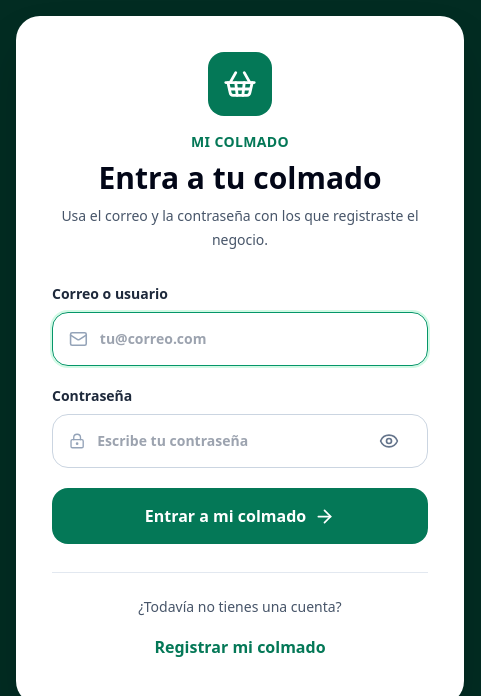
Scenario: ColmadoLoginPage › prevents repeated clicks while login is pending
The width and height of the screenshot is (481, 696).
Type "dueno@example.com" into the field labelled "Correo o usuario". click: point(249, 339)
box: 88,313 -> 411,365
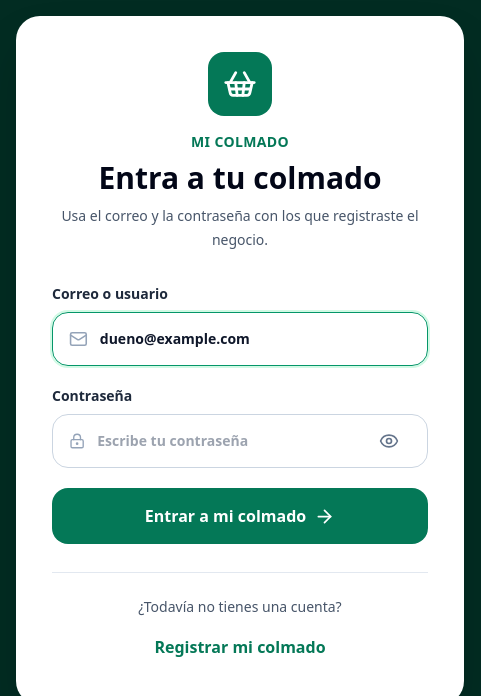
Type "ClaveSegura123" into the password field labelled "Contraseña". click: point(226, 441)
box: 85,415 -> 367,467
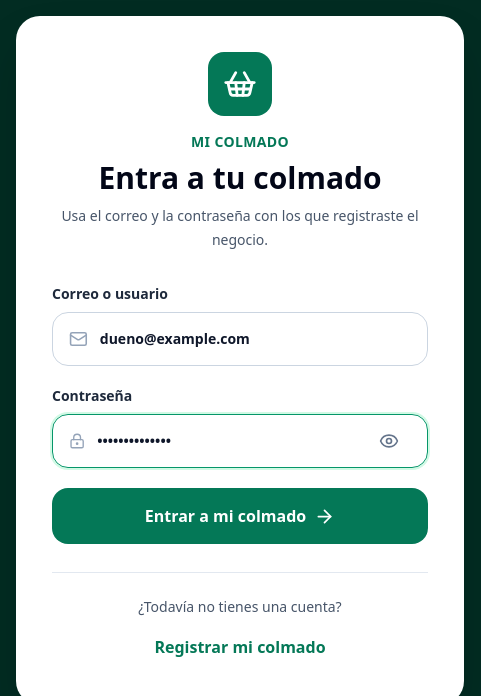
Click the button "Entrar a mi colmado". click: point(240, 516)
box: 52,488 -> 428,544
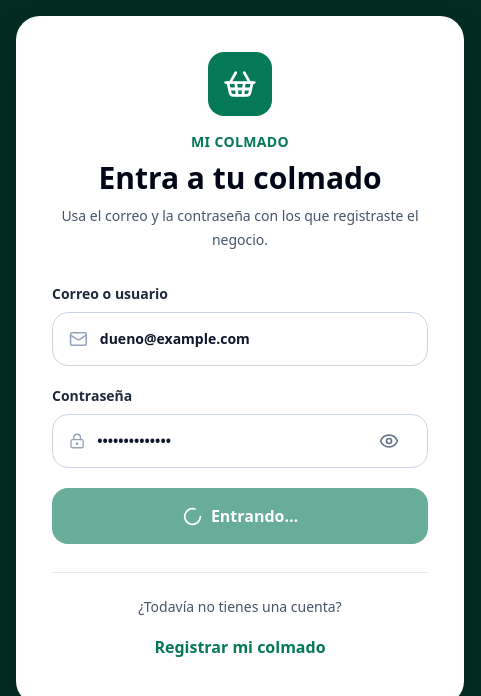
Result: the button "Entrando…" is disabled at 52,488 -> 428,544
